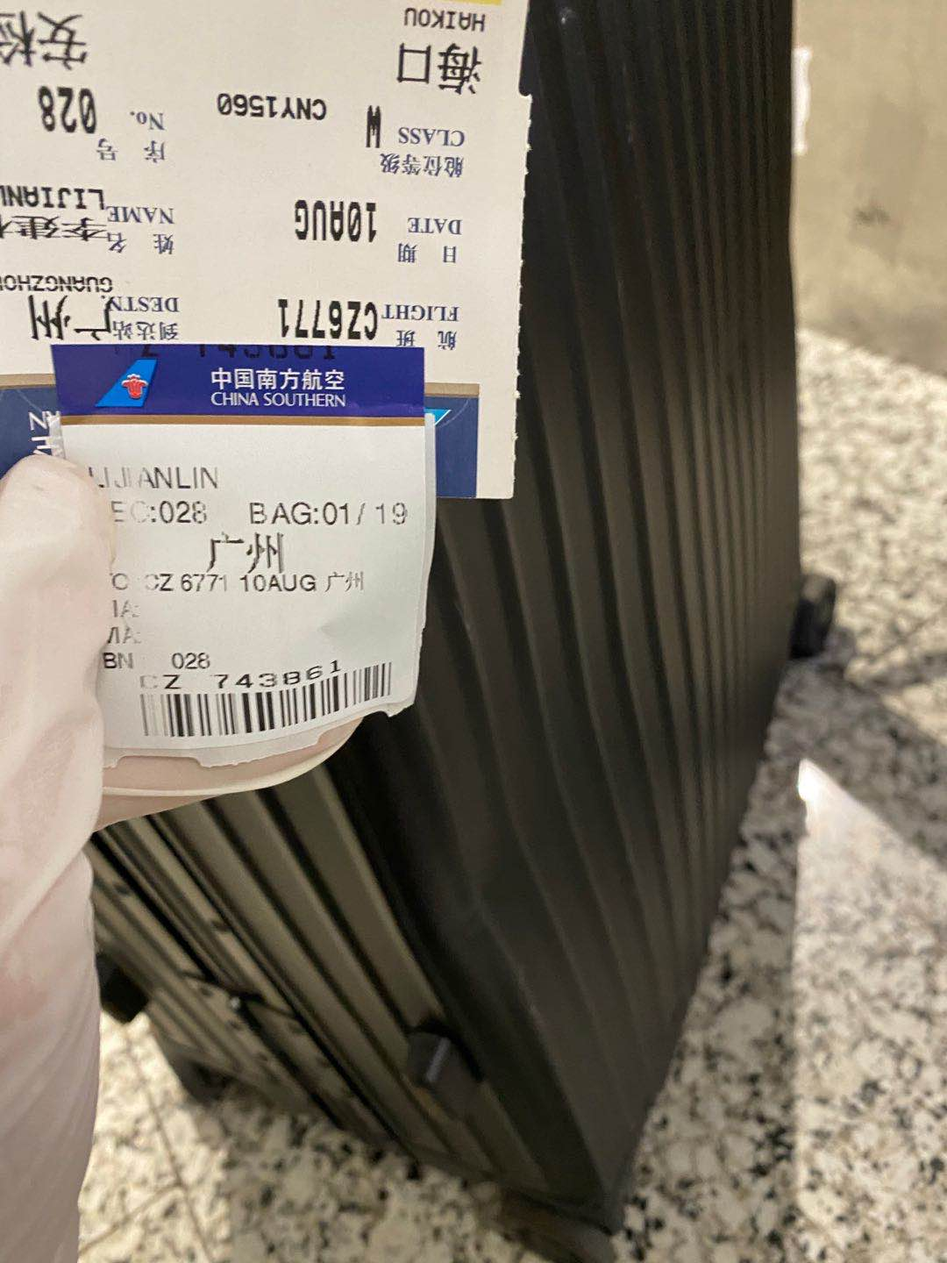rupture: (422, 762, 622, 1012)
